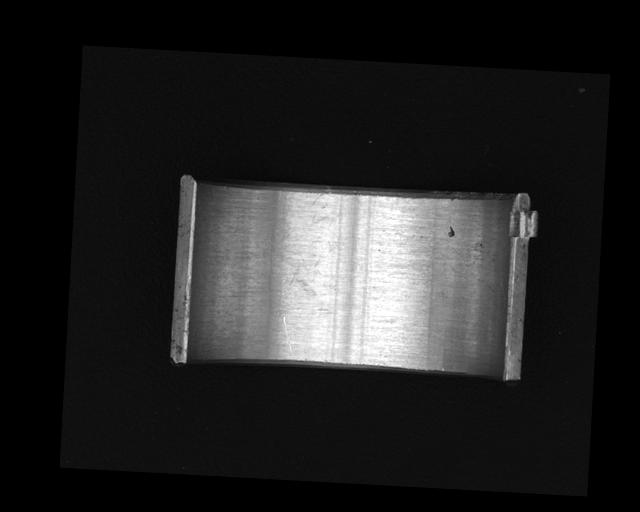blot: (273, 249, 321, 299)
bruise: (445, 224, 456, 238)
nick: (279, 316, 296, 356)
